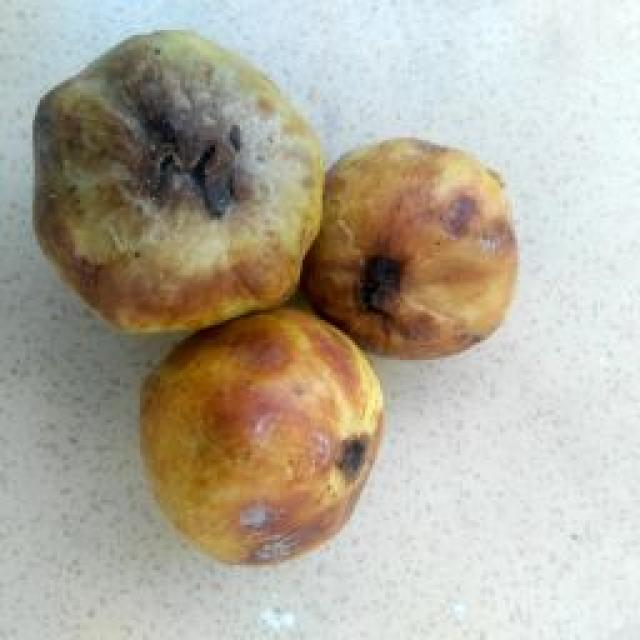Bad_Guava: (34, 31, 324, 332), (141, 308, 382, 562), (301, 138, 518, 358)
